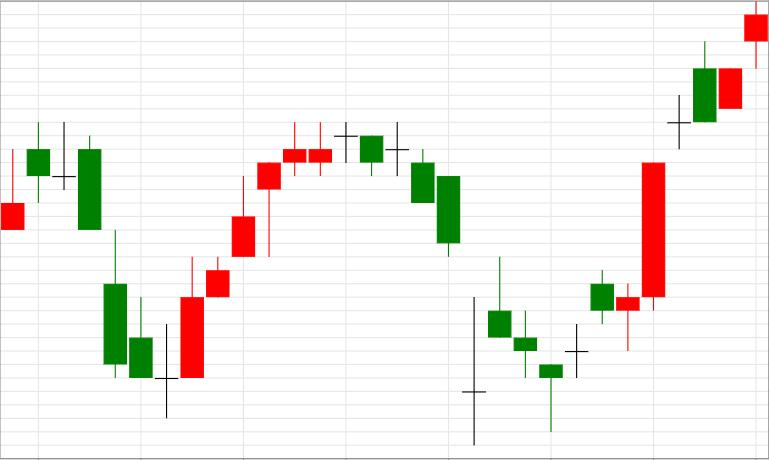hanging_man_fall: (156, 162, 281, 419)
morning_star_rise: (27, 120, 204, 419)
three_white_soldiers_rise: (27, 119, 254, 419)
